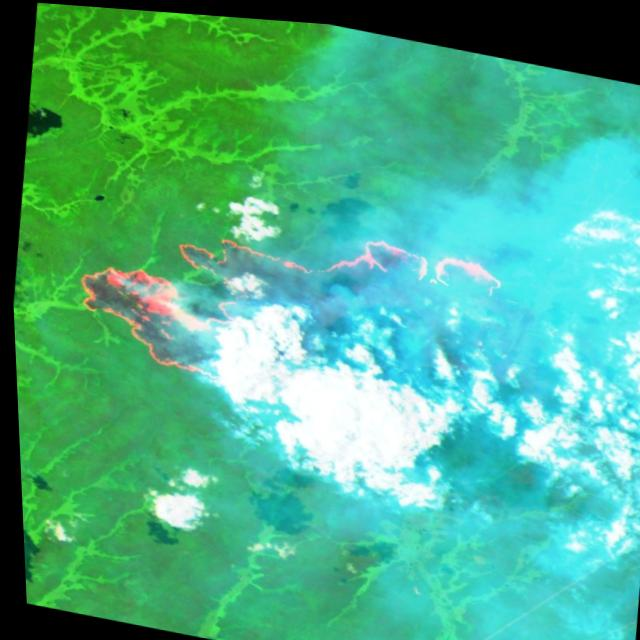fire: (59, 178, 515, 429)
